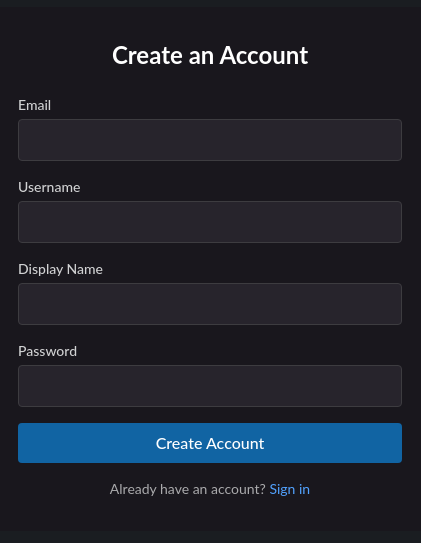
Test: RegisterForm › displays generic error for non-Error exceptions
Type "test@example.com" into the field below "Email" at (210, 140), box [18,119,402,161]
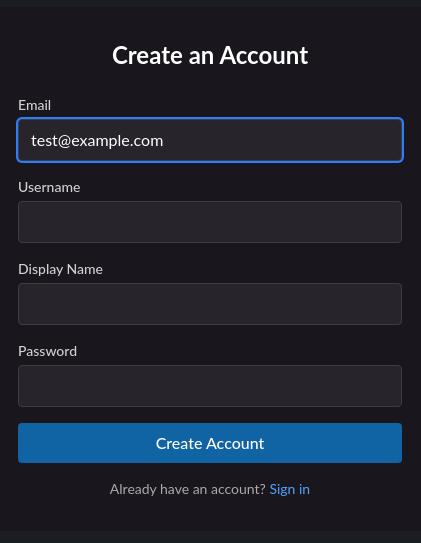
Type "testuser" into the field below "Username" at (210, 222), box [18,201,402,243]
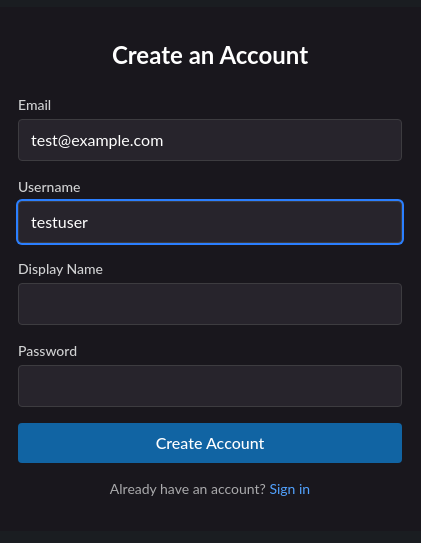
Type "password123" into the password field at (210, 386), box [18,365,402,407]
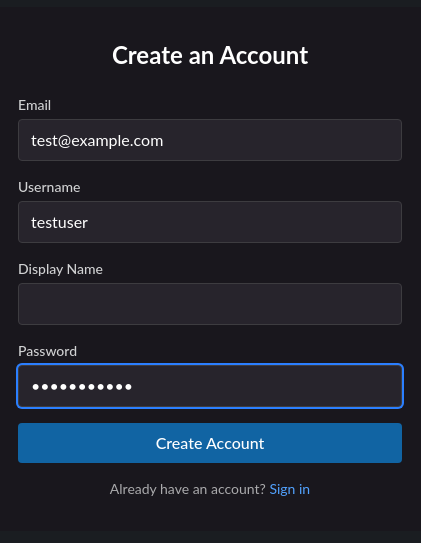
Click the button "Create Account" at (210, 443), box [18,423,402,463]
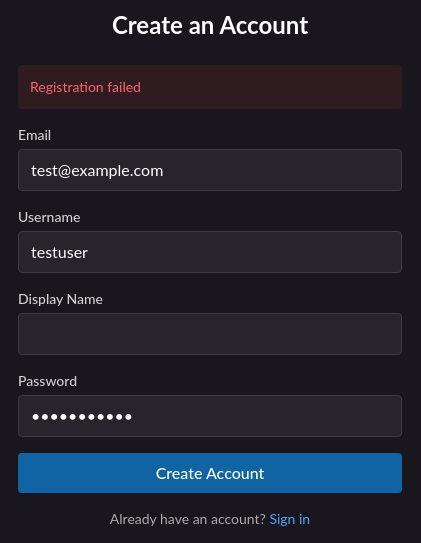
Now the text "Registration failed" is shown, box [18,65,402,109]
